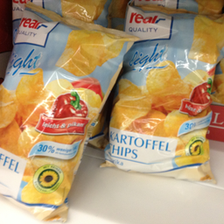chips: (1, 5, 138, 219), (108, 7, 220, 183)
